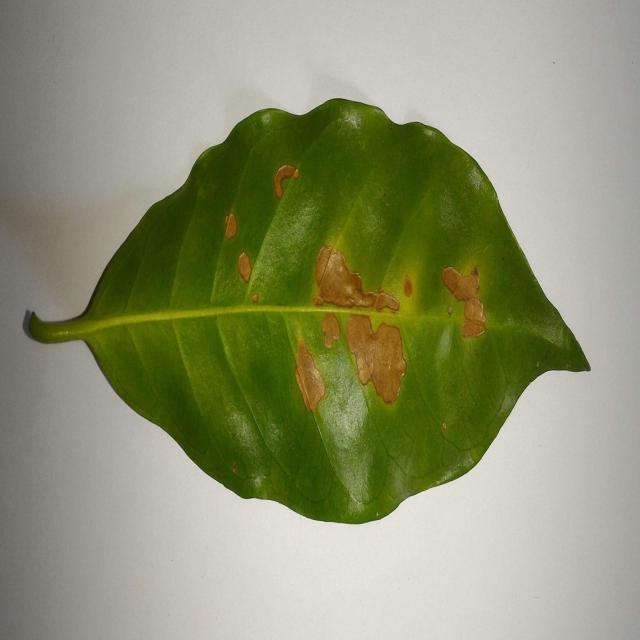miner: (314, 246, 400, 312), (346, 316, 406, 404), (441, 266, 486, 338), (296, 338, 326, 411), (271, 161, 300, 199), (392, 259, 417, 300), (321, 314, 340, 348), (223, 211, 238, 240), (238, 251, 252, 282), (232, 461, 243, 479), (251, 292, 259, 304)
